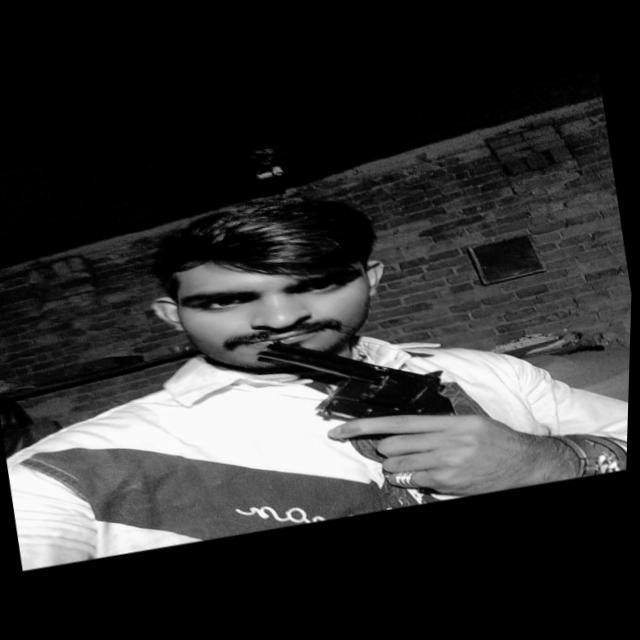weapon: (244, 305, 486, 523)
